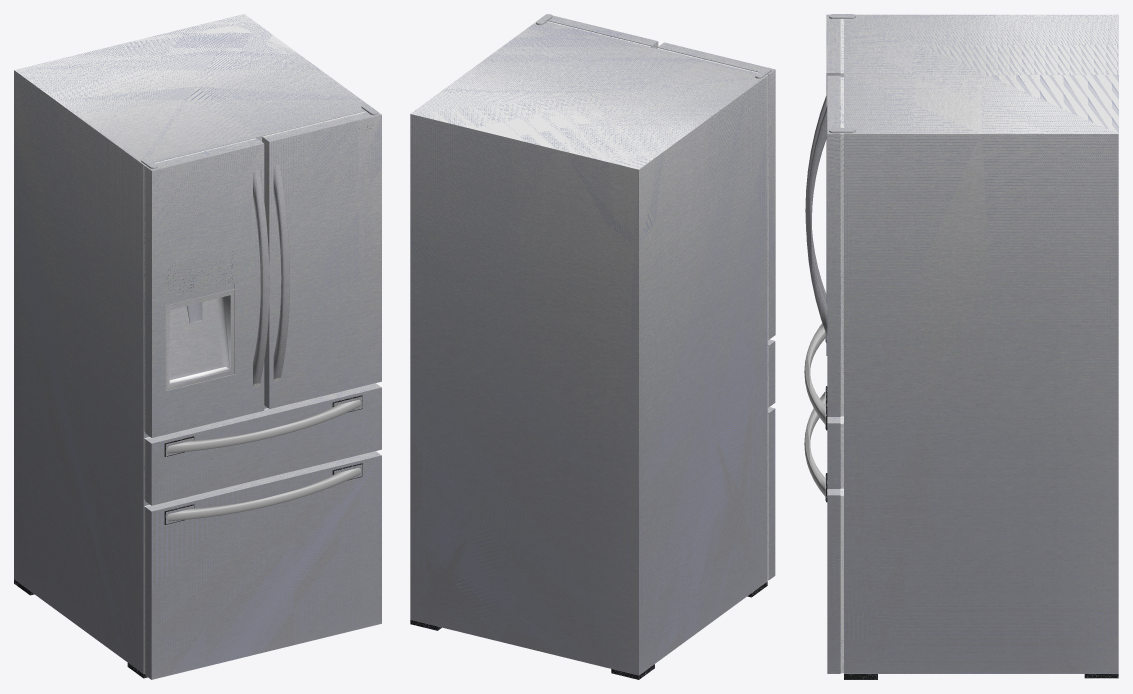
The model's file is SamsungFridge.dae.
The picture shows the model from 3 angles, left to right: view 1: azimuth 30°, elevation 25°; view 2: azimuth 150°, elevation 25°; view 3: azimuth 270°, elevation 25°; orthographic projection. The views are drawn at different scales.
Parts seen in each view (by area): view 1: Samsung_French_Door_731L (×8), Main_Handle (×4), Main_Handle_1 (×2); view 2: Samsung_French_Door_731L (×5); view 3: Samsung_French_Door_731L (×7), Main_Handle_1 (×2), Main_Handle.
Boxes of the visible parts, left/top/right/bottom form: Samsung_French_Door_731L (×8): left=14, top=14, right=381, bottom=679; Main_Handle (×4): left=253, top=164, right=289, bottom=387; Main_Handle_1 (×2): left=167, top=400, right=360, bottom=521; Samsung_French_Door_731L (×5): left=410, top=14, right=775, bottom=675; Samsung_French_Door_731L (×7): left=826, top=14, right=1118, bottom=673; Main_Handle_1 (×2): left=804, top=323, right=825, bottom=496; Main_Handle: left=807, top=110, right=827, bottom=335.
Size of the model in its own units: 32.68 by 36.42 by 70.04.
